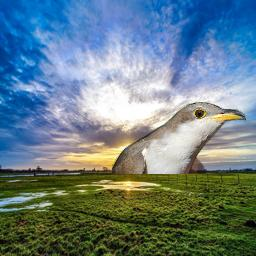Cuckoo: (112, 102, 246, 174)
